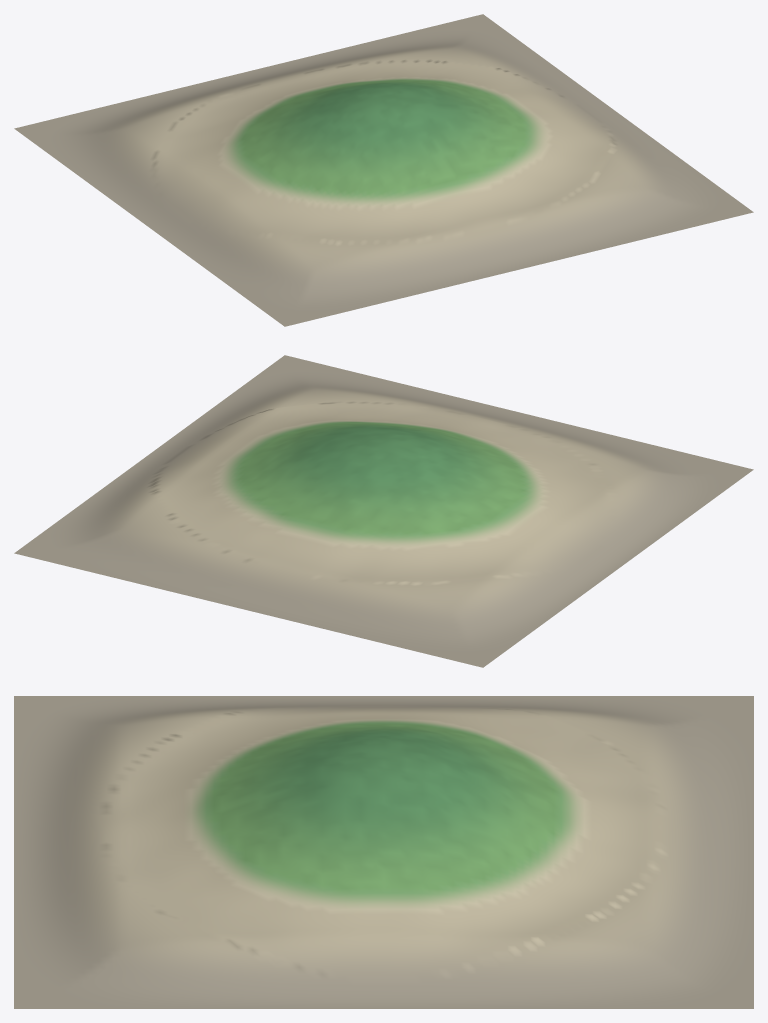
The model's file is island-terrain.gltf.
3 renders of one model, top to bottom at view 1: azimuth 30°, elevation 25°; view 2: azimuth 150°, elevation 25°; view 3: azimuth 270°, elevation 25°, orthographic. The views are drawn at different scales.
Parts seen in each view (by area): view 1: island-terrain; view 2: island-terrain; view 3: island-terrain.
Part boxes in pixels (<box>): island-terrain: <box>14,14,753,326</box>; island-terrain: <box>14,355,753,667</box>; island-terrain: <box>14,696,753,1008</box>.
Size of the model in its own units: 60 by 8.42 by 60.
